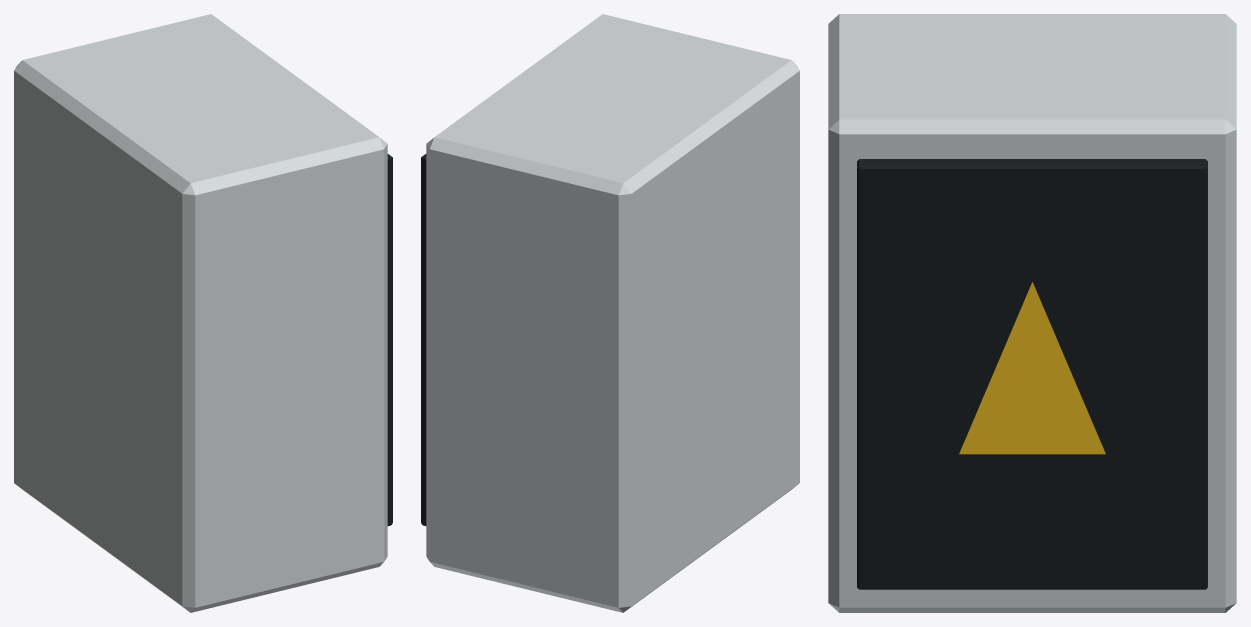
The model's file is SM_MP_Power_ColumnJunction.fbx.
3 views of the same model, side by side, from view 1: azimuth 30°, elevation 25°; view 2: azimuth 150°, elevation 25°; view 3: azimuth 270°, elevation 25° (orthographic). The views are drawn at different scales.
Parts seen in each view (by area): view 1: SM_MP_Power_ColumnJunction; view 2: SM_MP_Power_ColumnJunction; view 3: SM_MP_Power_ColumnJunction.
Part boxes in pixels (left/top/right/bottom): SM_MP_Power_ColumnJunction: left=14, top=14, right=392, bottom=612; SM_MP_Power_ColumnJunction: left=421, top=14, right=799, bottom=612; SM_MP_Power_ColumnJunction: left=828, top=14, right=1236, bottom=612.
Bounding box in the file's own units: 21.6 × 30 × 40.
